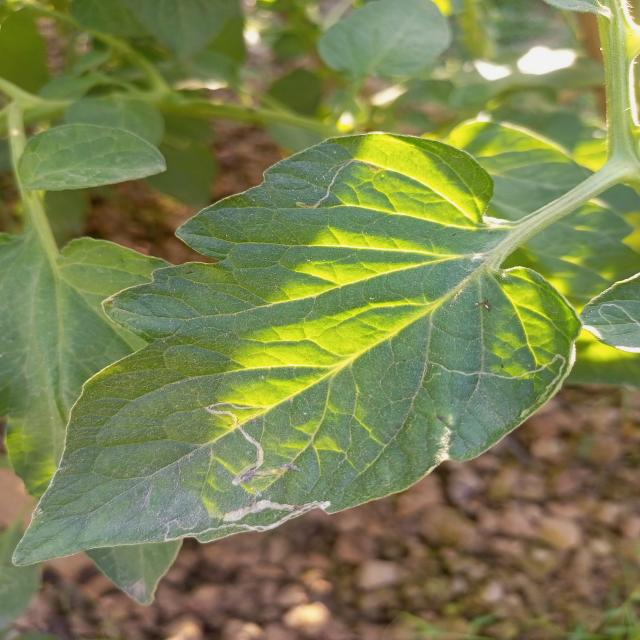Tuta absoluta: (453, 353, 573, 426), (231, 427, 304, 491), (295, 160, 360, 216), (219, 500, 331, 531), (205, 402, 251, 424)
